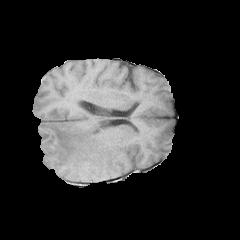glioma: (38, 123, 122, 181)
